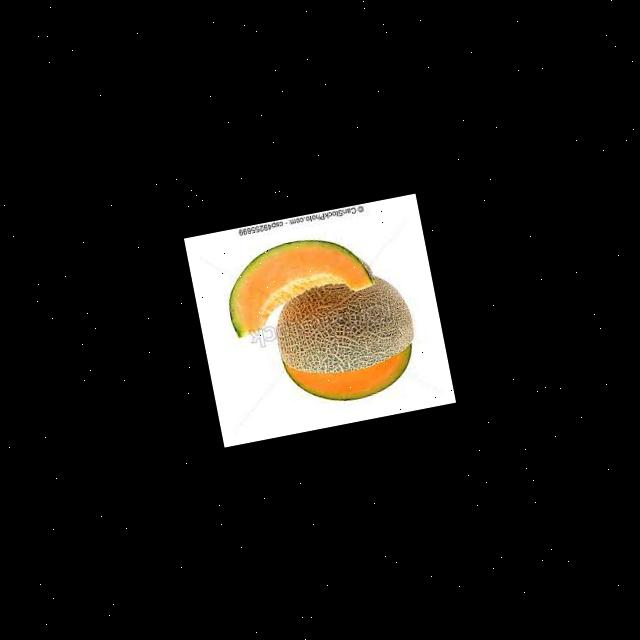Hami Melon: (268, 271, 424, 413), (218, 227, 380, 339)
